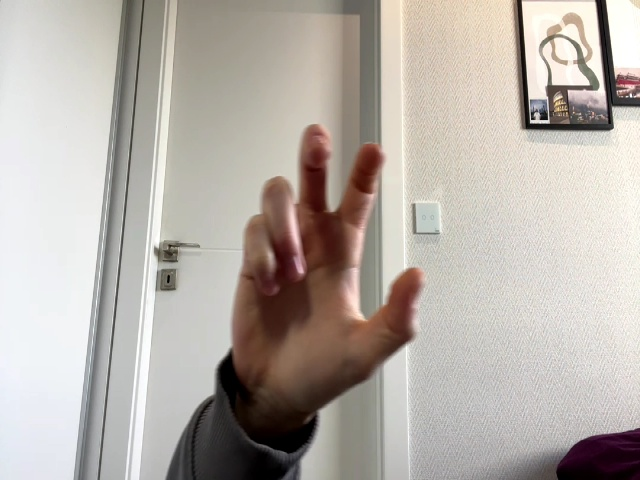CH: (231, 124, 423, 410)
